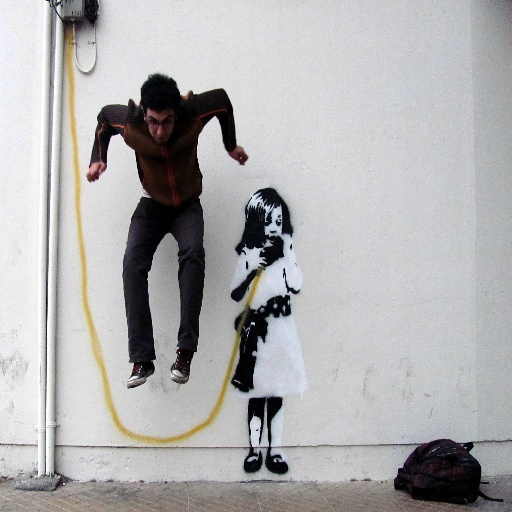hand: (79, 127, 118, 187), (227, 145, 249, 165), (280, 233, 293, 252), (251, 257, 267, 272)
